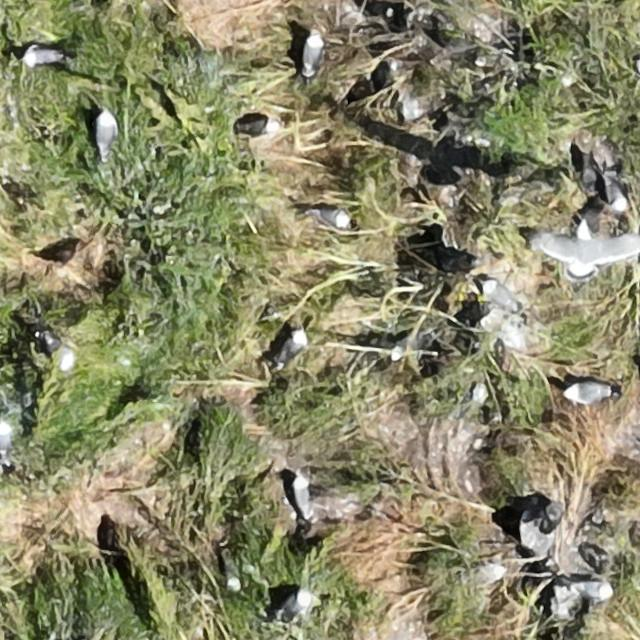F: (551, 223, 634, 275)
umineko: (481, 277, 522, 315), (46, 336, 76, 368), (470, 565, 508, 590), (567, 384, 611, 404), (279, 330, 306, 362), (94, 110, 114, 152), (278, 591, 310, 617), (606, 177, 628, 214), (293, 478, 312, 519), (314, 209, 351, 229), (392, 333, 418, 360), (304, 34, 322, 72), (24, 48, 61, 66), (240, 118, 277, 136), (574, 582, 609, 598), (223, 558, 241, 589), (0, 421, 10, 466)
